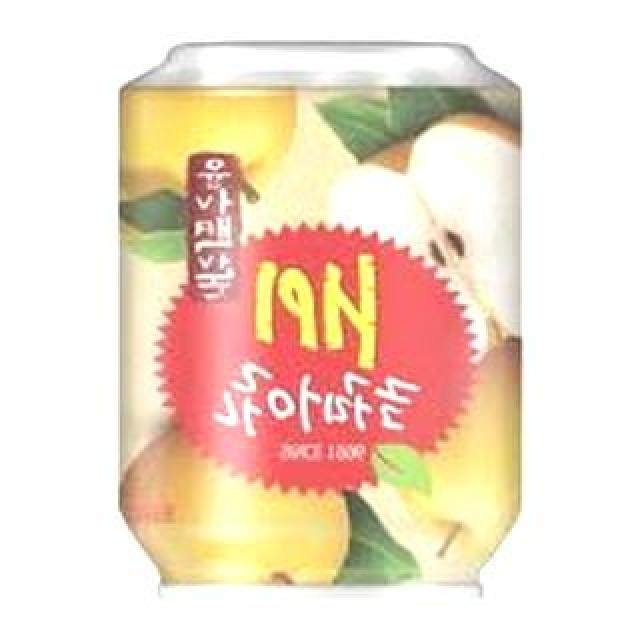Can: (92, 23, 572, 615)
